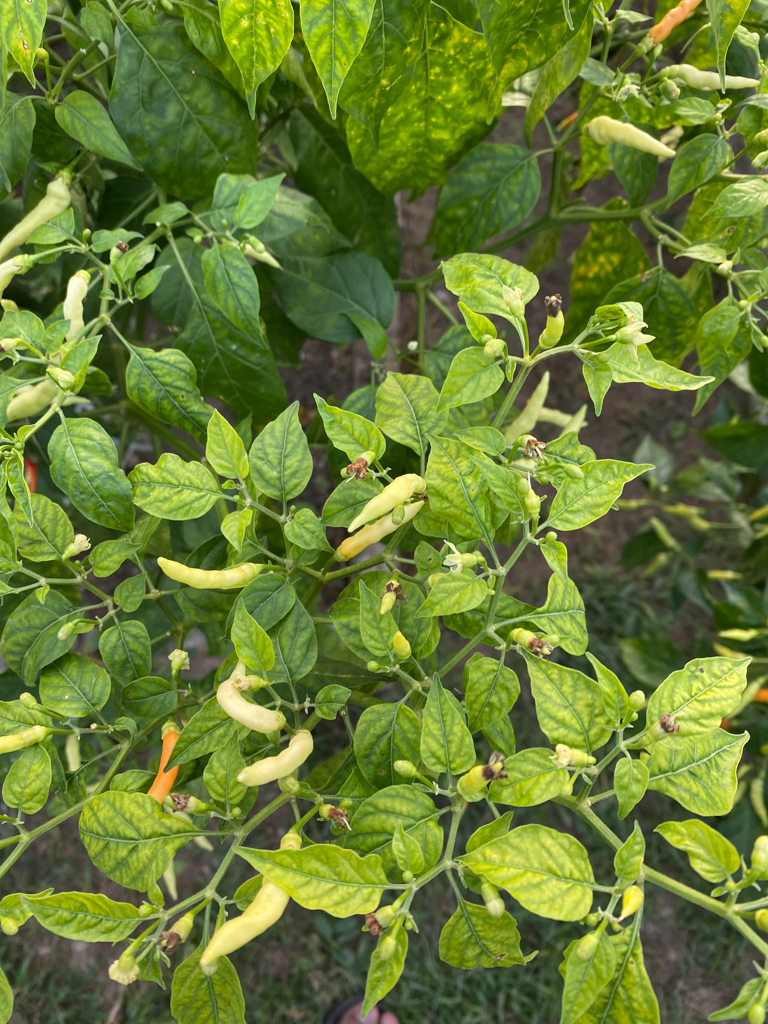Pepper yellow leaf: (370, 26, 498, 197), (570, 218, 639, 295), (225, 5, 290, 73)
frog-eye leafspot: (694, 665, 711, 676)
